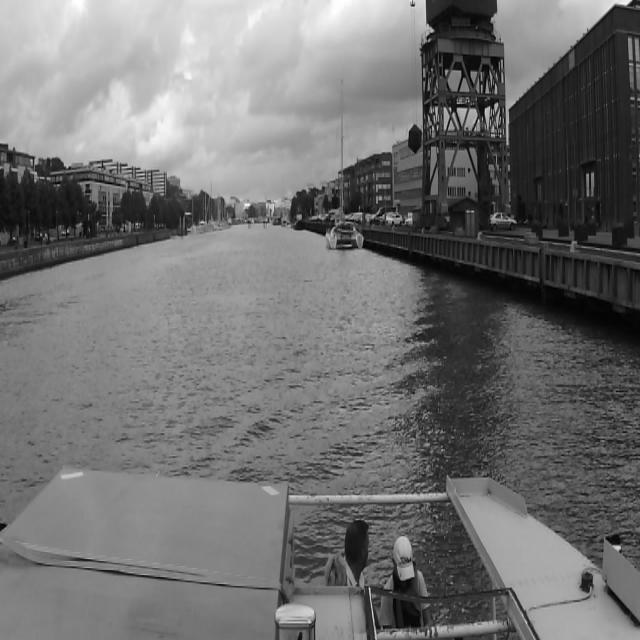ship: (325, 76, 363, 250)
